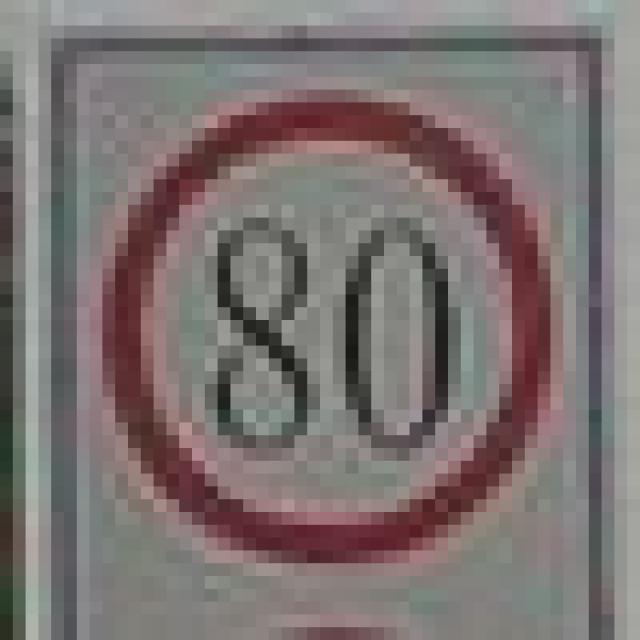SPEED_LIMIT_80: (90, 77, 538, 550)
